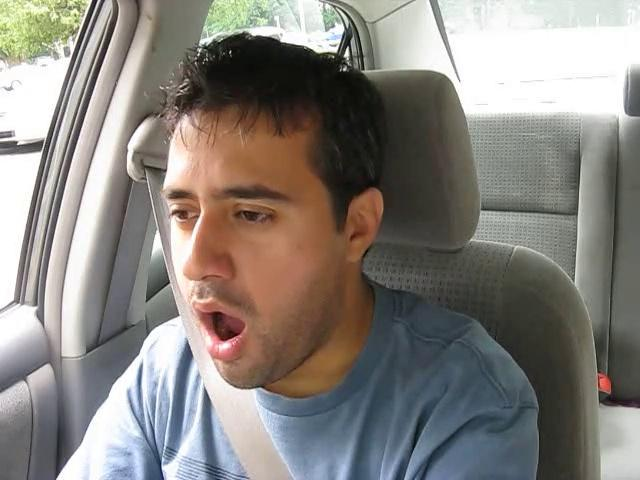open_eyeL: (151, 196, 207, 237)
open_eyeR: (218, 194, 296, 238)
yawn: (176, 297, 268, 361)
